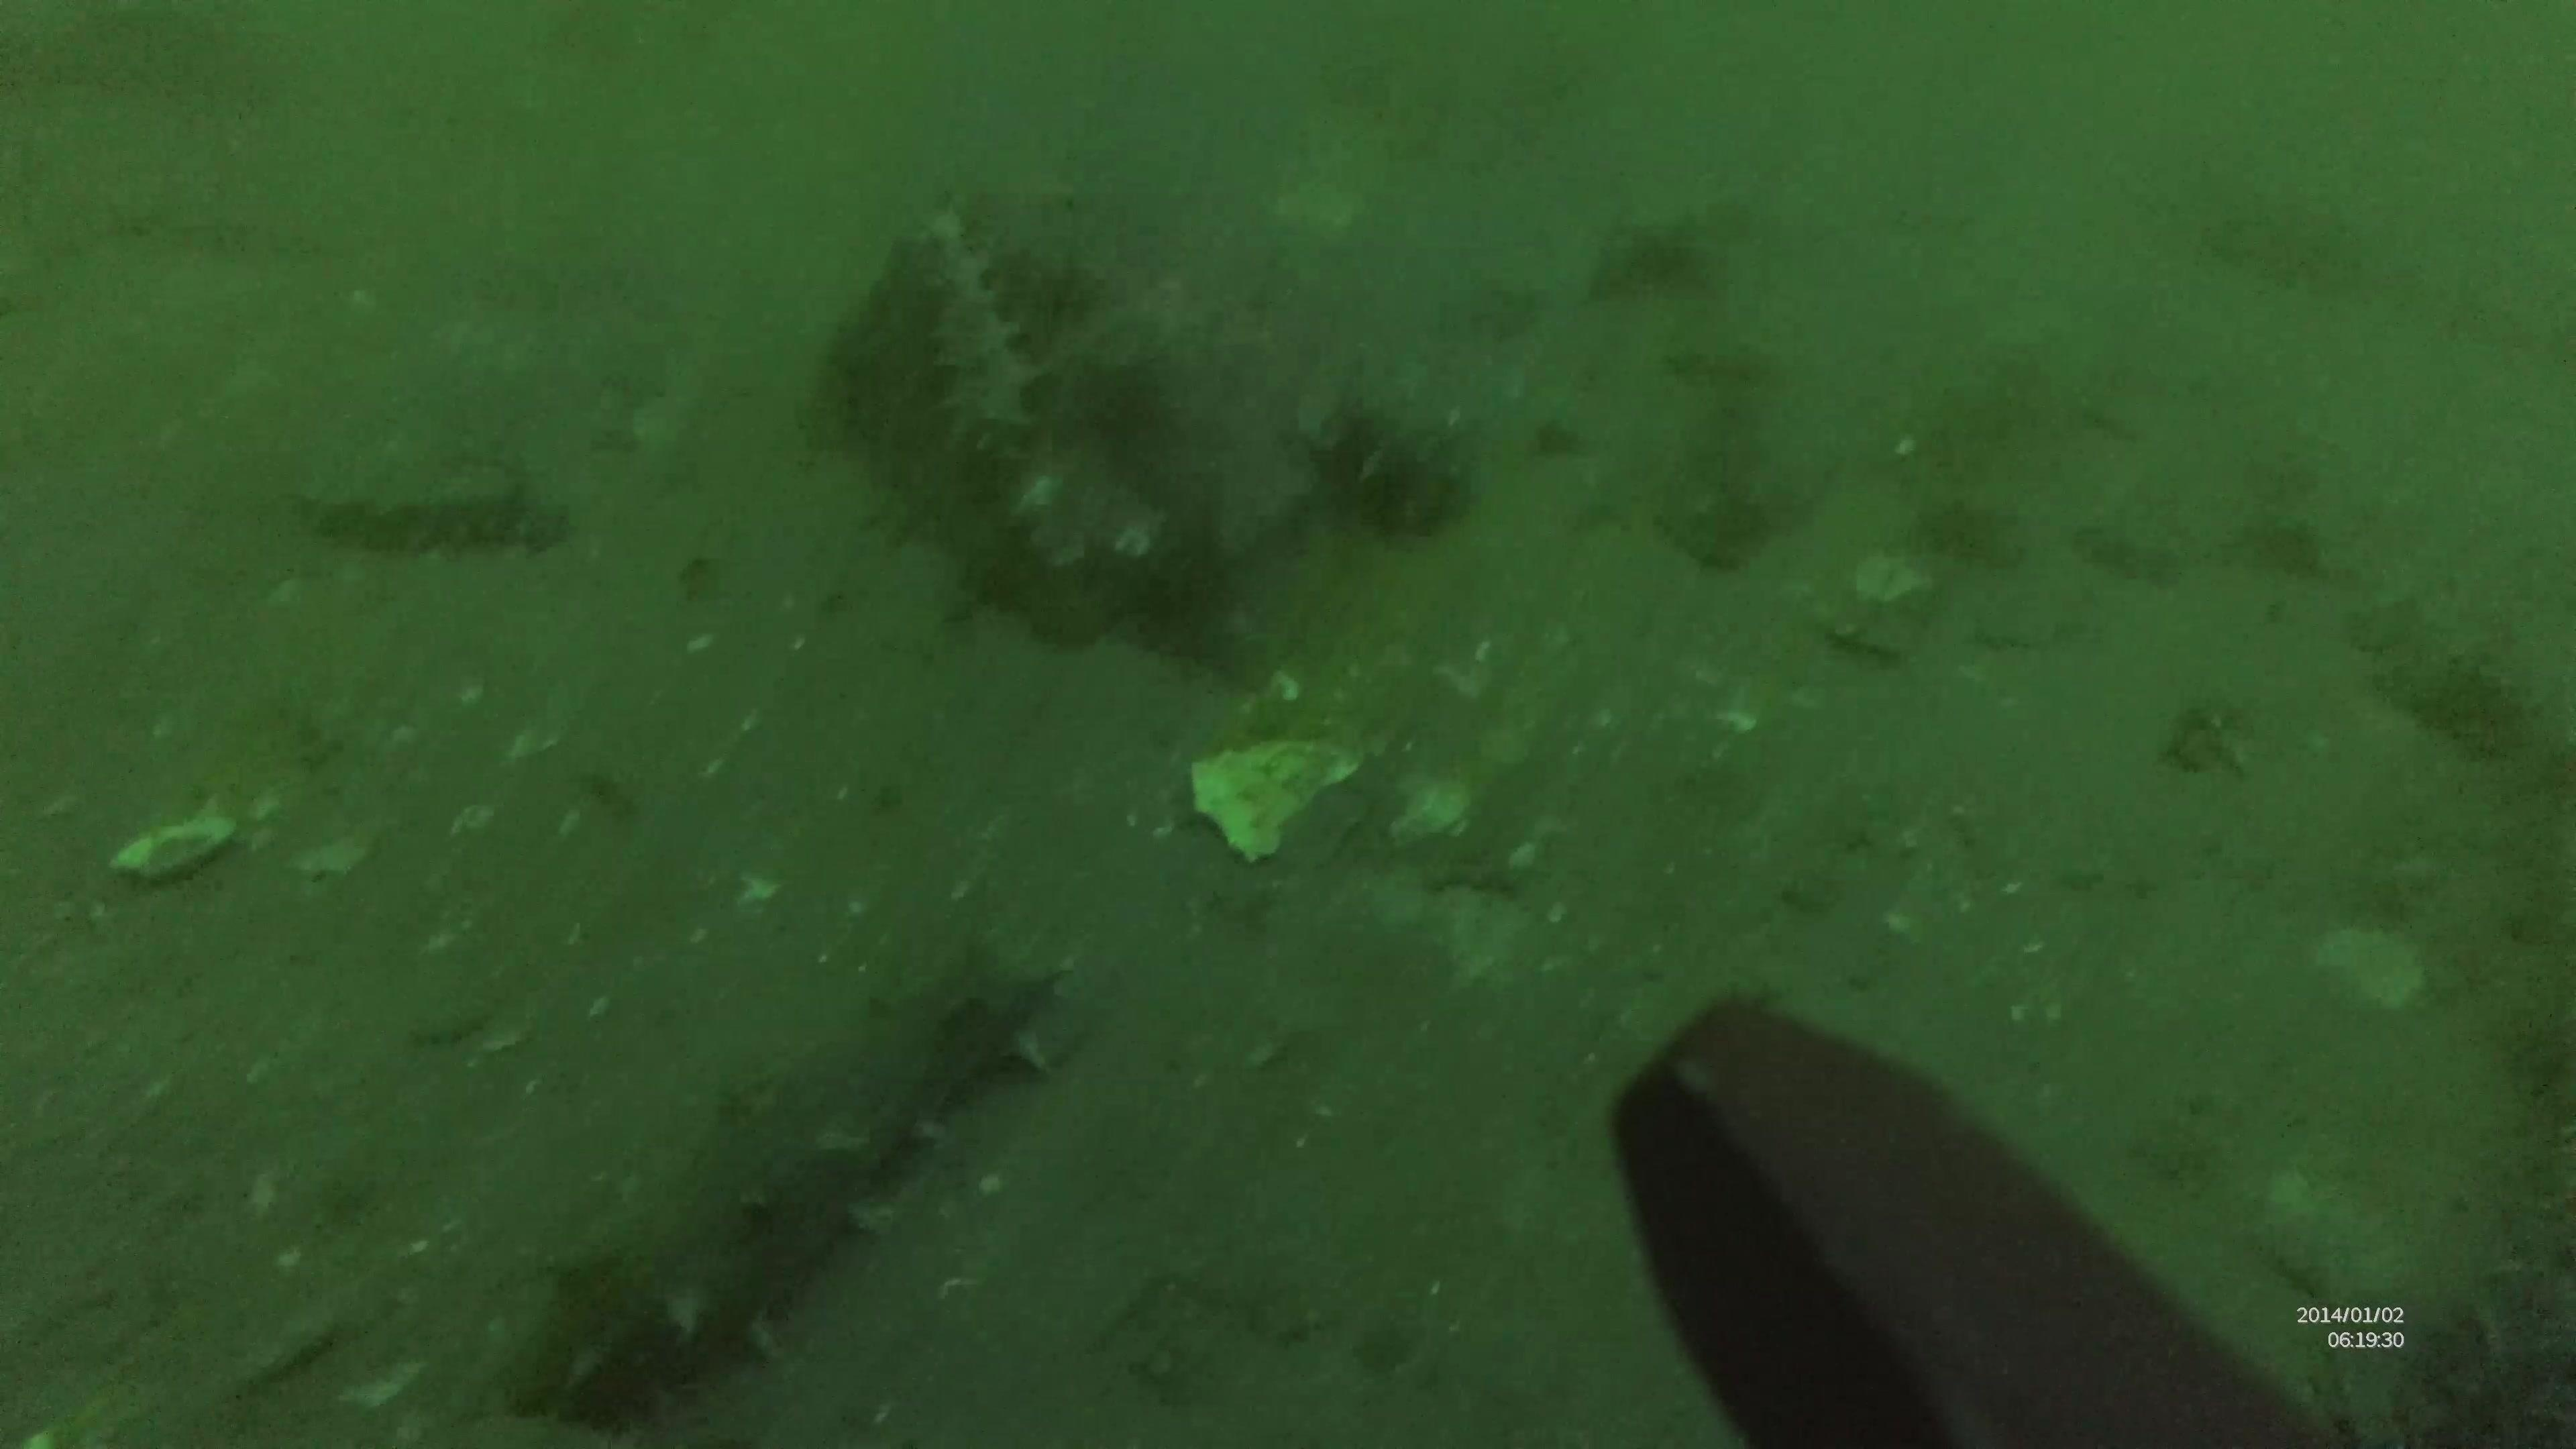holothurian: (517, 934, 1067, 1422), (904, 209, 1047, 472), (297, 465, 564, 564)
